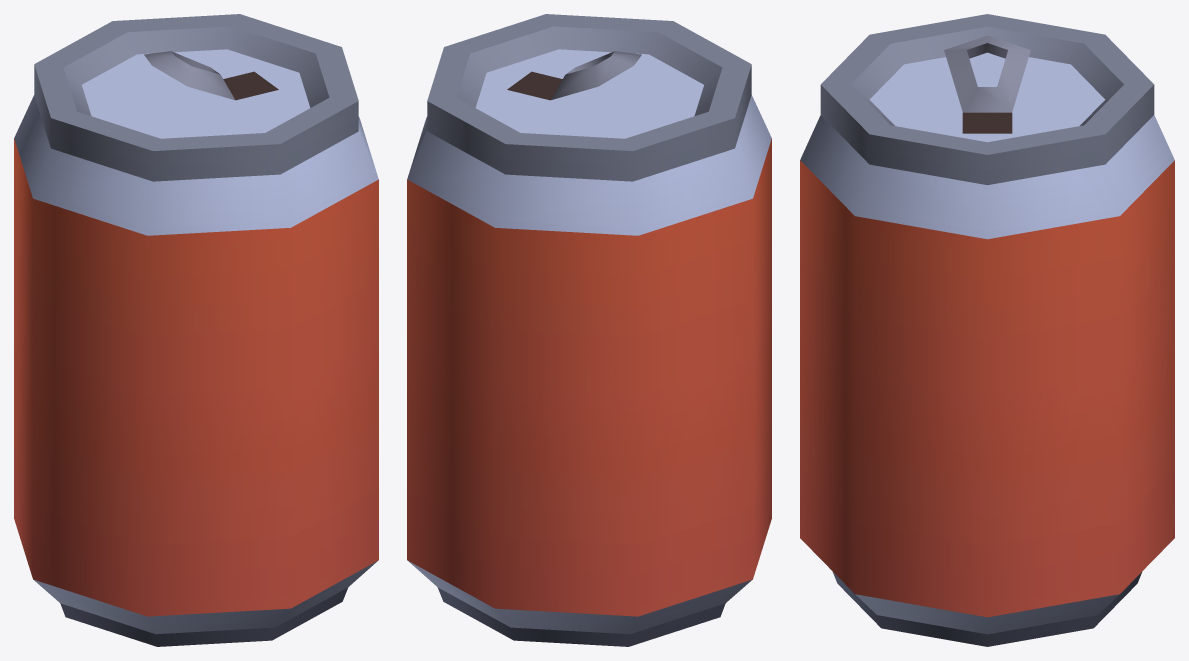
Rendered from sodacan.glb.
3 views of the same model, side by side, from view 1: azimuth 30°, elevation 25°; view 2: azimuth 150°, elevation 25°; view 3: azimuth 270°, elevation 25° (orthographic).
Visible parts, largest first — view 1: soda-can; view 2: soda-can; view 3: soda-can.
Part boxes in pixels (bbox=[...]): soda-can: bbox=[14, 14, 378, 646]; soda-can: bbox=[407, 14, 771, 646]; soda-can: bbox=[800, 14, 1174, 646].
Bounding box in the file's own units: 0.0769 × 0.12 × 0.0769.
1 material, 1 textured.
